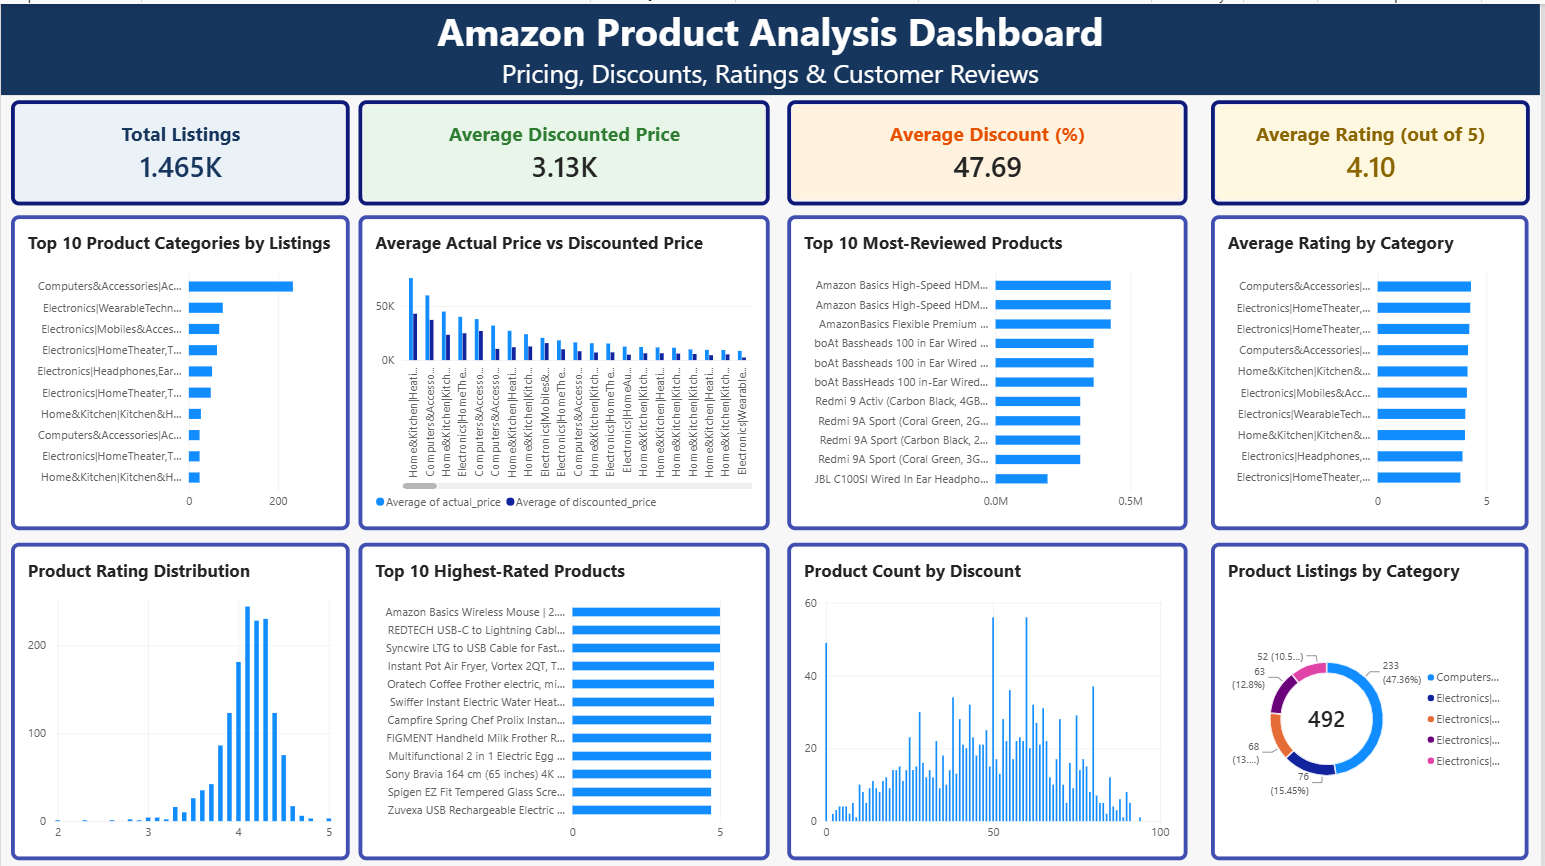

This screenshot's page, from the dashboard's own definition file:
{"tool":"powerbi","page":{"name":"Page 1","canvas":[1920,1080],"ordinal":0},"visuals":[{"type":"cardVisual","title":"Total Listings","fields":{"Data":["CountNonNull(amazon_cleaned.product_id)"]},"box":[12.2,120.3,422.1,130.8],"z":0},{"type":"cardVisual","title":"Average Discounted Price","fields":{"Data":["Avg(amazon_cleaned.discounted_price)"]},"box":[446.5,120.3,512.8,130.8],"z":1000},{"type":"cardVisual","title":"Average Discount","fields":{"Data":["Avg(amazon_cleaned.discount_percentage)"]},"box":[980.2,120.3,498.8,130.8],"z":2000},{"type":"cardVisual","title":"Average Rating","fields":{"Data":["Avg(amazon_cleaned.rating)"]},"box":[1508.7,120.3,397.7,130.8],"z":3000},{"type":"clusteredBarChart","title":"Top 10 Product Categories by Listings","fields":{"Category":["amazon_cleaned.category"],"Y":["CountNonNull(amazon_cleaned.product_id)"]},"box":[12.2,263.4,422.1,392.4],"z":4000},{"type":"clusteredColumnChart","title":"Average Actual Price vs Discounted Price","fields":{"Category":["amazon_cleaned.category"],"Y":["Avg(amazon_cleaned.actual_price)","Avg(amazon_cleaned.discounted_price)"]},"box":[446.5,263.4,512.8,392.4],"z":5000},{"type":"clusteredColumnChart","title":"Product Rating Distribution","fields":{"Category":["amazon_cleaned.rating"],"Y":["CountNonNull(amazon_cleaned.product_id)"]},"box":[12.2,671.5,422.1,395.9],"z":6000},{"type":"clusteredBarChart","title":"Top 10 Highest-Rated Products","fields":{"Category":["amazon_cleaned.product_name"],"Y":["Avg(amazon_cleaned.rating)"]},"box":[446.5,671.5,512.8,395.9],"z":7000},{"type":"clusteredBarChart","title":"Top 10 Most-Reviewed Products","fields":{"Category":["amazon_cleaned.product_name"],"Y":["Max(amazon_cleaned.rating_count)"]},"box":[980.2,263.4,498.8,392.4],"z":8000},{"type":"clusteredColumnChart","title":"Product Count by Discount","fields":{"Category":["amazon_cleaned.discount_percentage"],"Y":["CountNonNull(amazon_cleaned.product_id)"]},"box":[980.2,671.5,498.8,395.9],"z":9000},{"type":"clusteredBarChart","title":"Average Rating by Category","fields":{"Category":["amazon_cleaned.category"],"Y":["Avg(amazon_cleaned.rating)"]},"box":[1508.7,263.4,395.9,392.4],"z":10000},{"type":"donutChart","title":"Product Listings by Category","fields":{"Category":["amazon_cleaned.category"],"Y":["CountNonNull(amazon_cleaned.product_id)"]},"box":[1508.7,671.5,395.9,395.9],"z":11000},{"type":"textbox","box":[0,0,1919,113.8],"z":12000}]}

Visuals, with their boxes in screenshot pixels (x1, y1, x2, y2), scaled from the page's 1920x1080 canvas onto the 1545x866 screenshot:
"Total Listings" cardVisual: box(10, 96, 349, 201)
"Average Discounted Price" cardVisual: box(359, 96, 772, 201)
"Average Discount" cardVisual: box(789, 96, 1190, 201)
"Average Rating" cardVisual: box(1214, 96, 1534, 201)
"Top 10 Product Categories by Listings" clusteredBarChart: box(10, 211, 349, 526)
"Average Actual Price vs Discounted Price" clusteredColumnChart: box(359, 211, 772, 526)
"Product Rating Distribution" clusteredColumnChart: box(10, 538, 349, 856)
"Top 10 Highest-Rated Products" clusteredBarChart: box(359, 538, 772, 856)
"Top 10 Most-Reviewed Products" clusteredBarChart: box(789, 211, 1190, 526)
"Product Count by Discount" clusteredColumnChart: box(789, 538, 1190, 856)
"Average Rating by Category" clusteredBarChart: box(1214, 211, 1533, 526)
"Product Listings by Category" donutChart: box(1214, 538, 1533, 856)
textbox: box(0, 0, 1544, 91)
